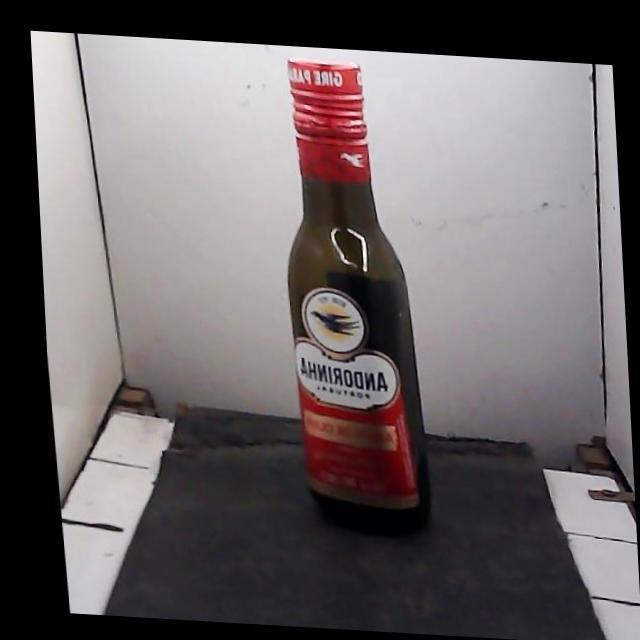vidro: (288, 59, 429, 527)
